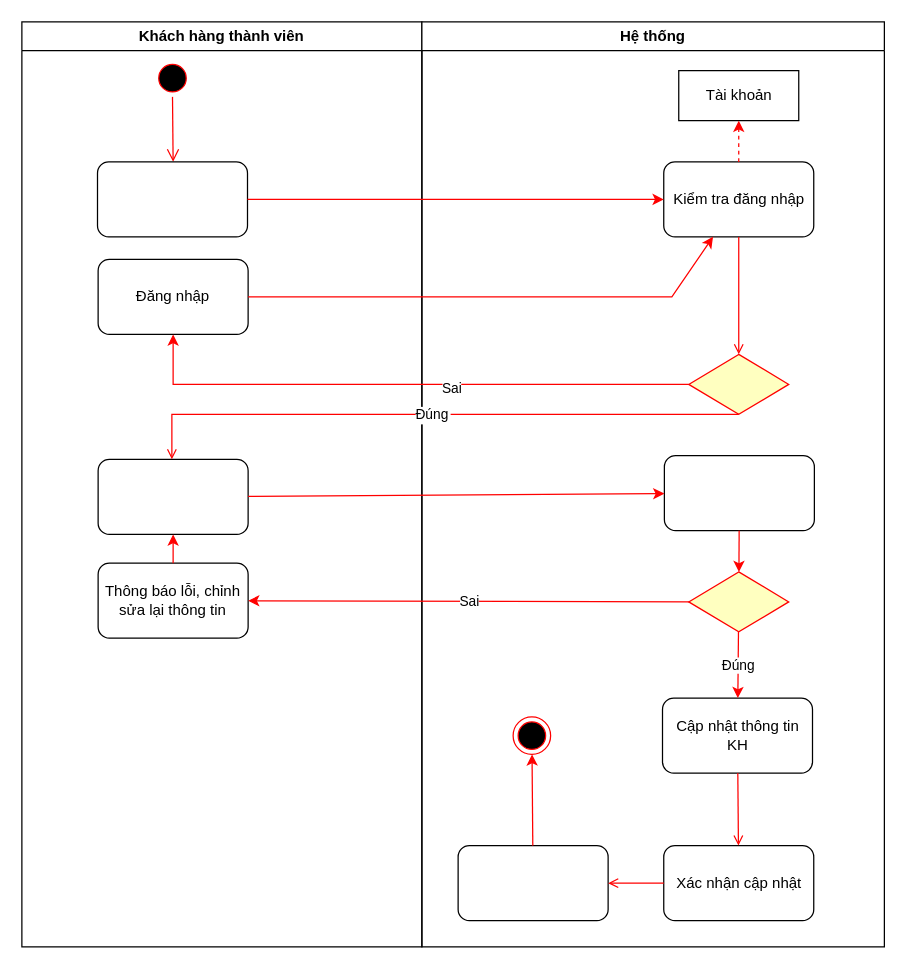
This 906x969 diagram has some shape labels left out. Here are the shapes that lost their labels. From the top down, the centre of each, then its label:
At pixel 172 199: "Chọn chức năng cập nhật thông tin KH".
At pixel 172 496: "Nhập thông tin cần cập nhật".
At pixel 738 492: "Kiểm tra thông tin hợp lệ".
At pixel 532 882: "Thông báo cập nhật thành công".
